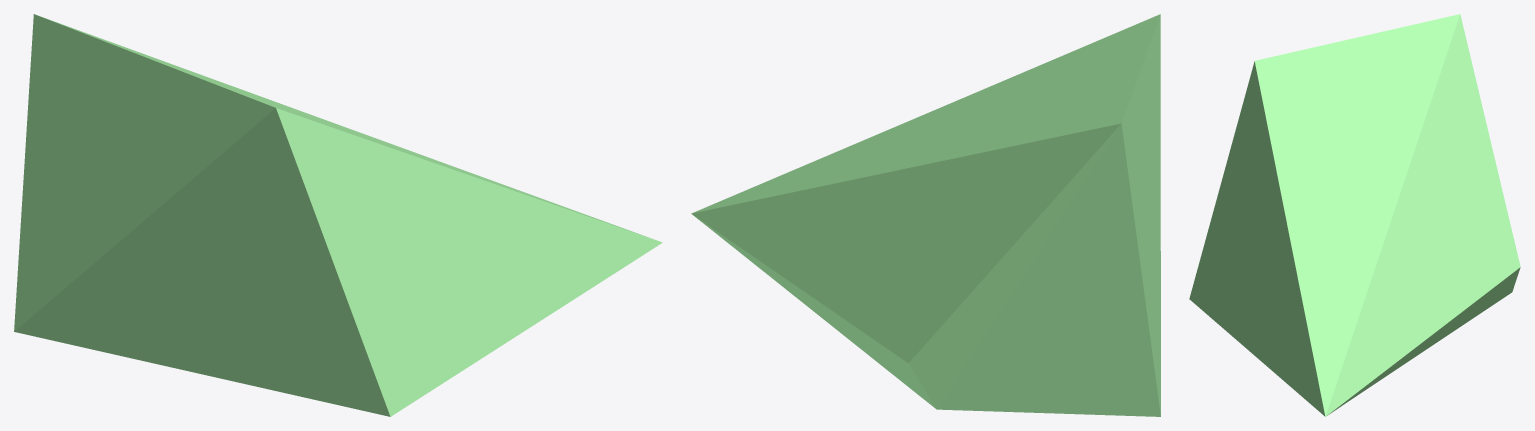
Rendered from linkhou_LR4_R560_link3_respondable_coll_7.dae.
3 views of the same model, side by side, from view 1: azimuth 30°, elevation 25°; view 2: azimuth 150°, elevation 25°; view 3: azimuth 270°, elevation 25° (orthographic). The views are drawn at different scales.
Parts seen in each view (by area): view 1: Node_00000209DB3AB9C0; view 2: Node_00000209DB3AB9C0; view 3: Node_00000209DB3AB9C0.
Part boxes in pixels (left/top/right/bottom): Node_00000209DB3AB9C0: left=14, top=14, right=662, bottom=416; Node_00000209DB3AB9C0: left=691, top=14, right=1160, bottom=416; Node_00000209DB3AB9C0: left=1189, top=14, right=1520, bottom=416.
Bounding box in the file's own units: 0.0694 × 0.0361 × 0.0482.
